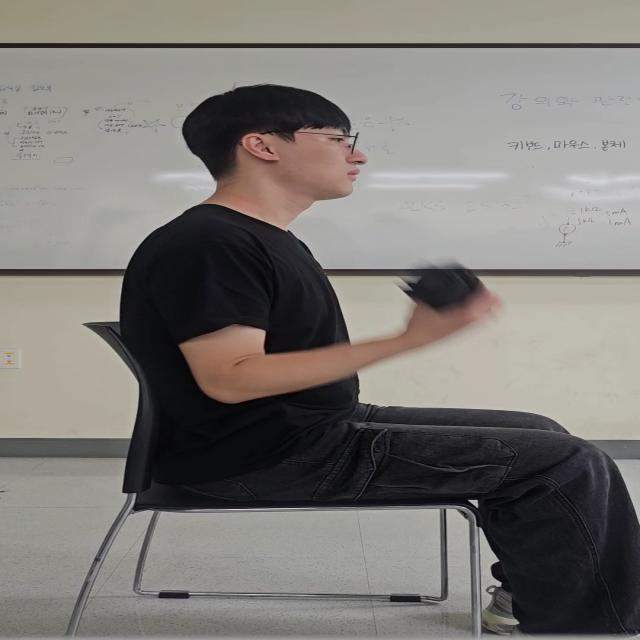curl: (144, 233, 517, 402)
